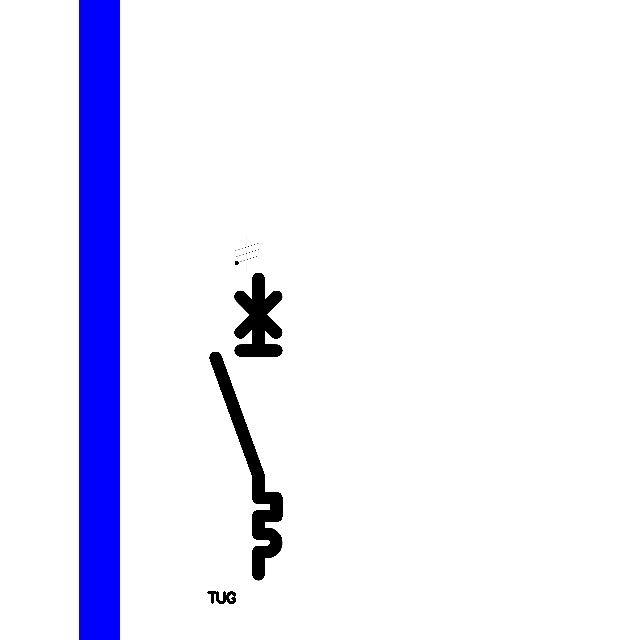interruptor_termomagnetico: (208, 271, 284, 582)
